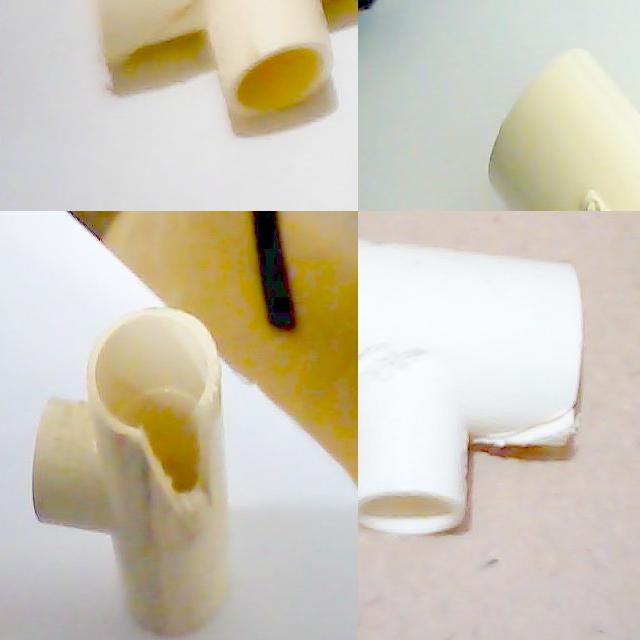Defective: (142, 410, 220, 528), (96, 0, 214, 57), (486, 390, 573, 460)
T Joint: (358, 239, 584, 539), (31, 308, 235, 640), (487, 49, 640, 211)
